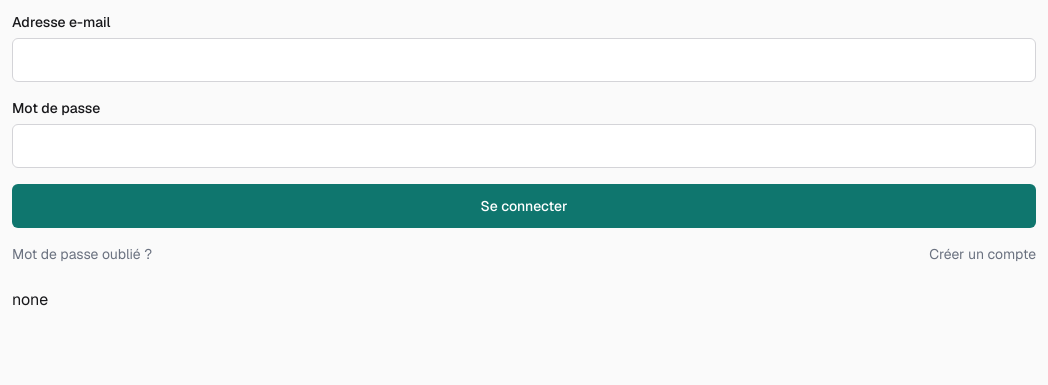
Test: LoginForm › affiche un message d'erreur sur identifiants invalides
Type "awa@example.test" into the field labelled "Adresse e-mail" at (524, 60), box [12,38,1036,82]
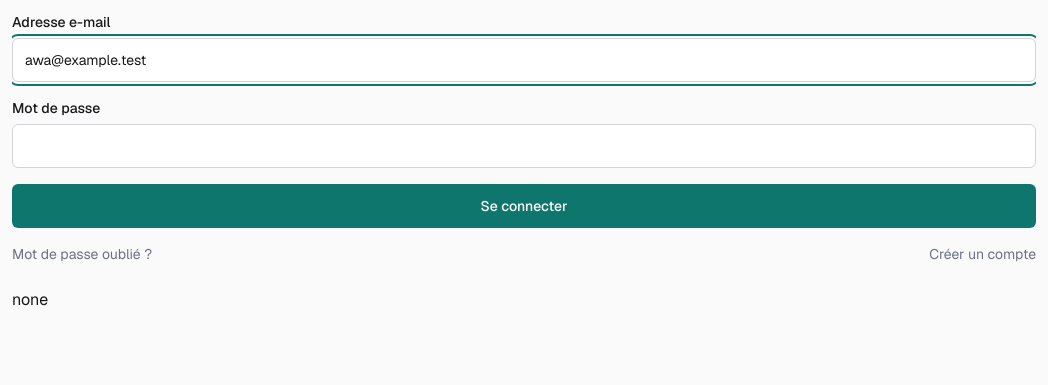
Type "faux" into the password field labelled "Mot de passe" at (524, 146), box [12,124,1036,168]
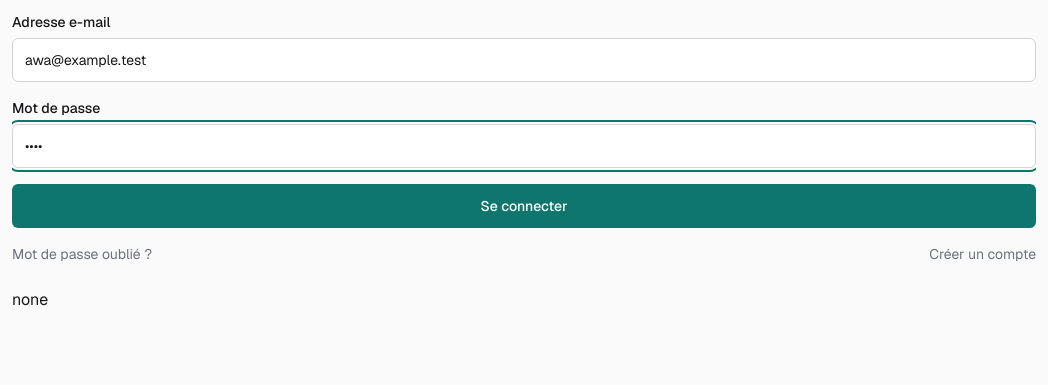
Click the button "Se connecter" at (524, 206), box [12,184,1036,228]
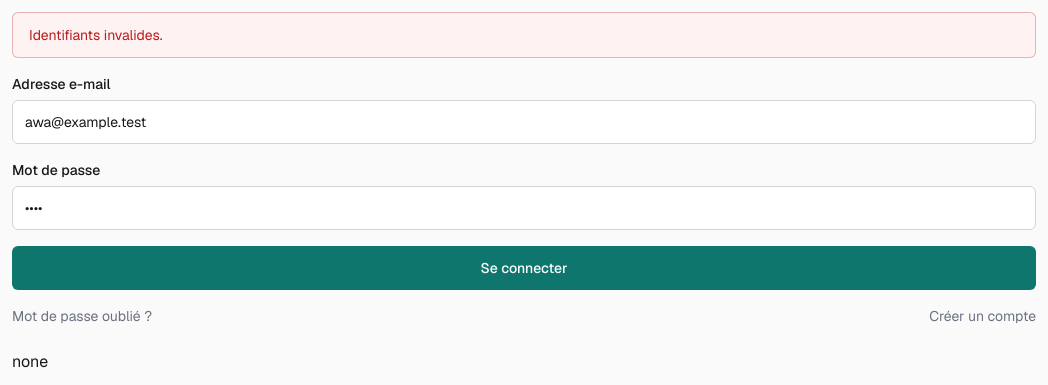
Check: the message reads "Identifiants invalides.", box [29,26,162,44]
